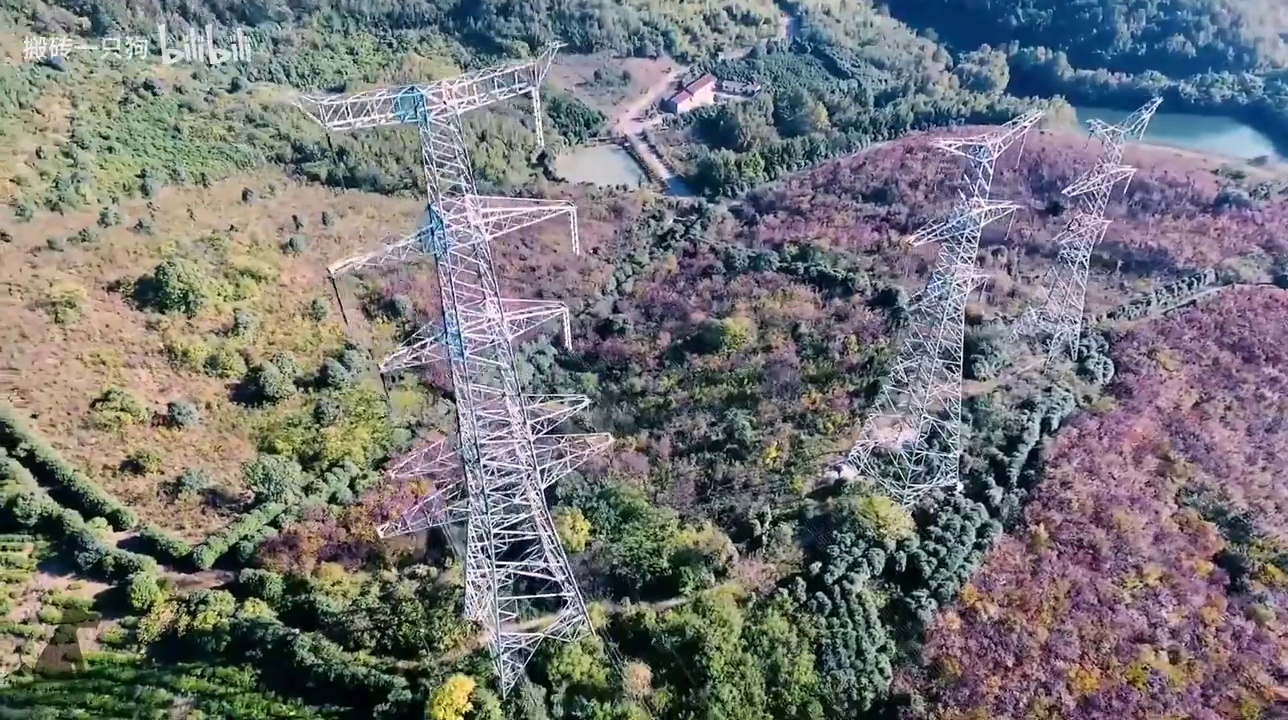tower_body: (287, 25, 627, 694), (839, 90, 1056, 511)
tower_foot: (445, 542, 612, 693), (848, 409, 971, 499)
tower_head: (296, 32, 574, 151), (915, 104, 1047, 166)
